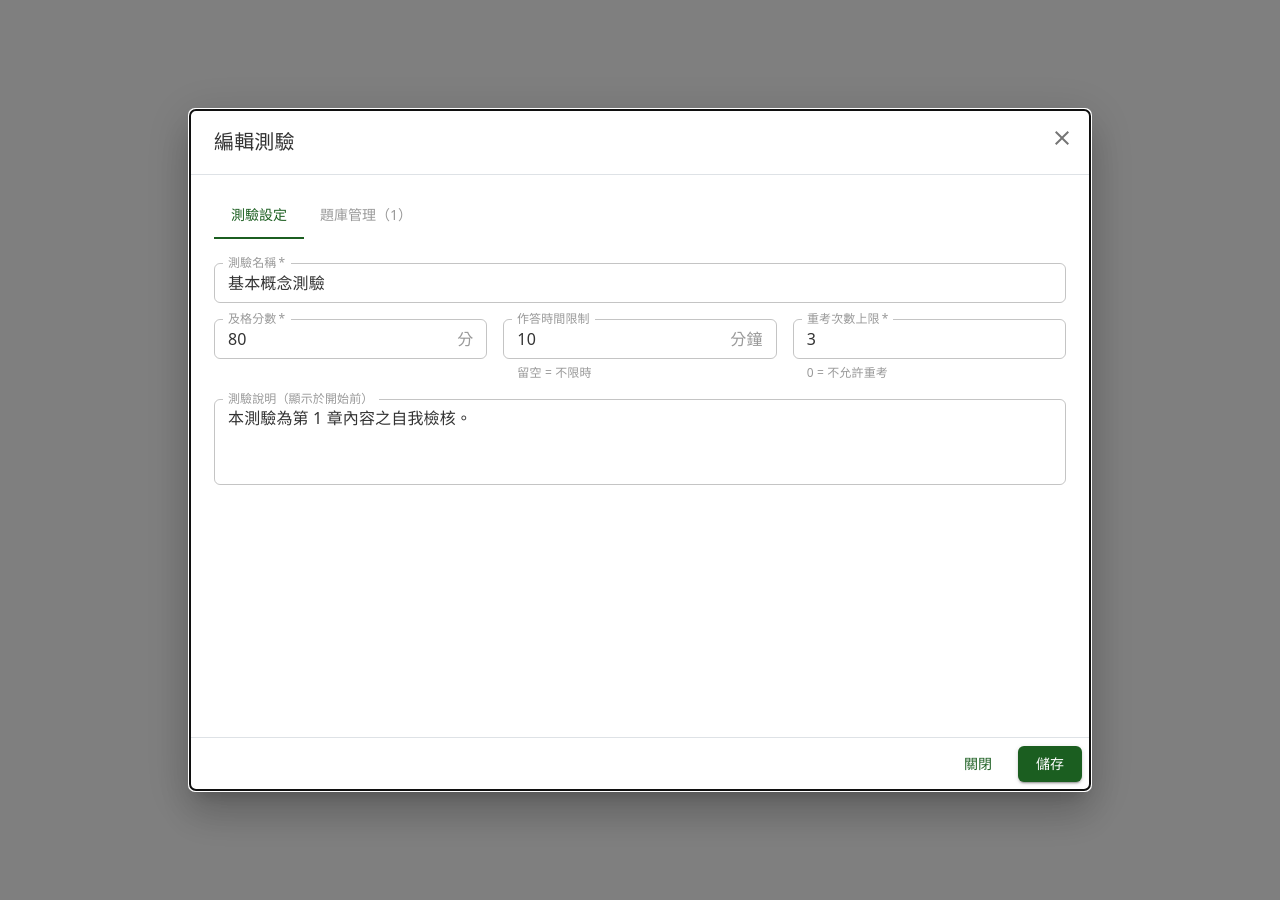
it: 測驗編輯視窗 › 點編輯展開該題之編輯器
Click the tab "題庫管理（1）". click: (366, 215)
box: [304, 191, 428, 239]
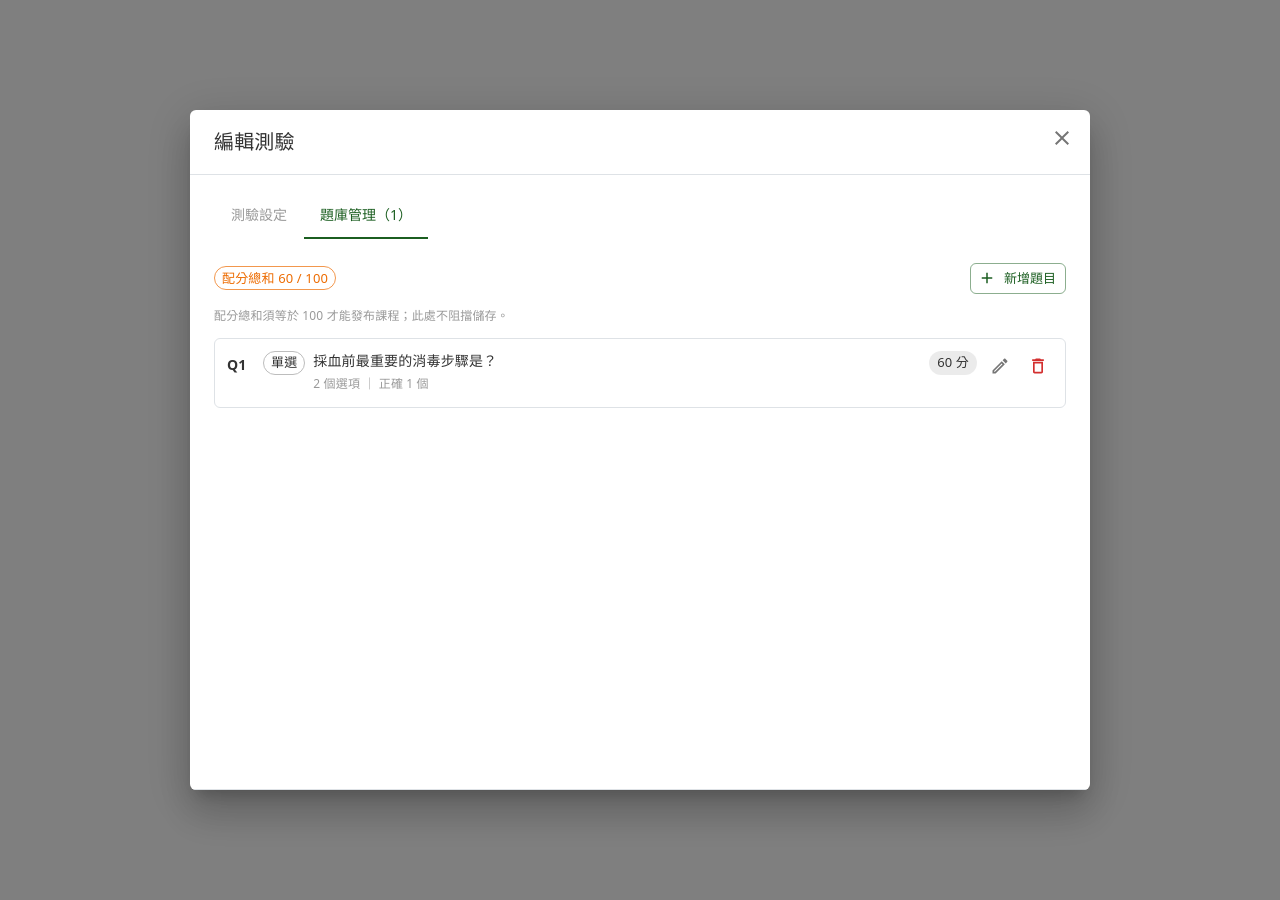
Click the button named "編輯第 1 題". click: (1000, 366)
box: [985, 351, 1015, 381]
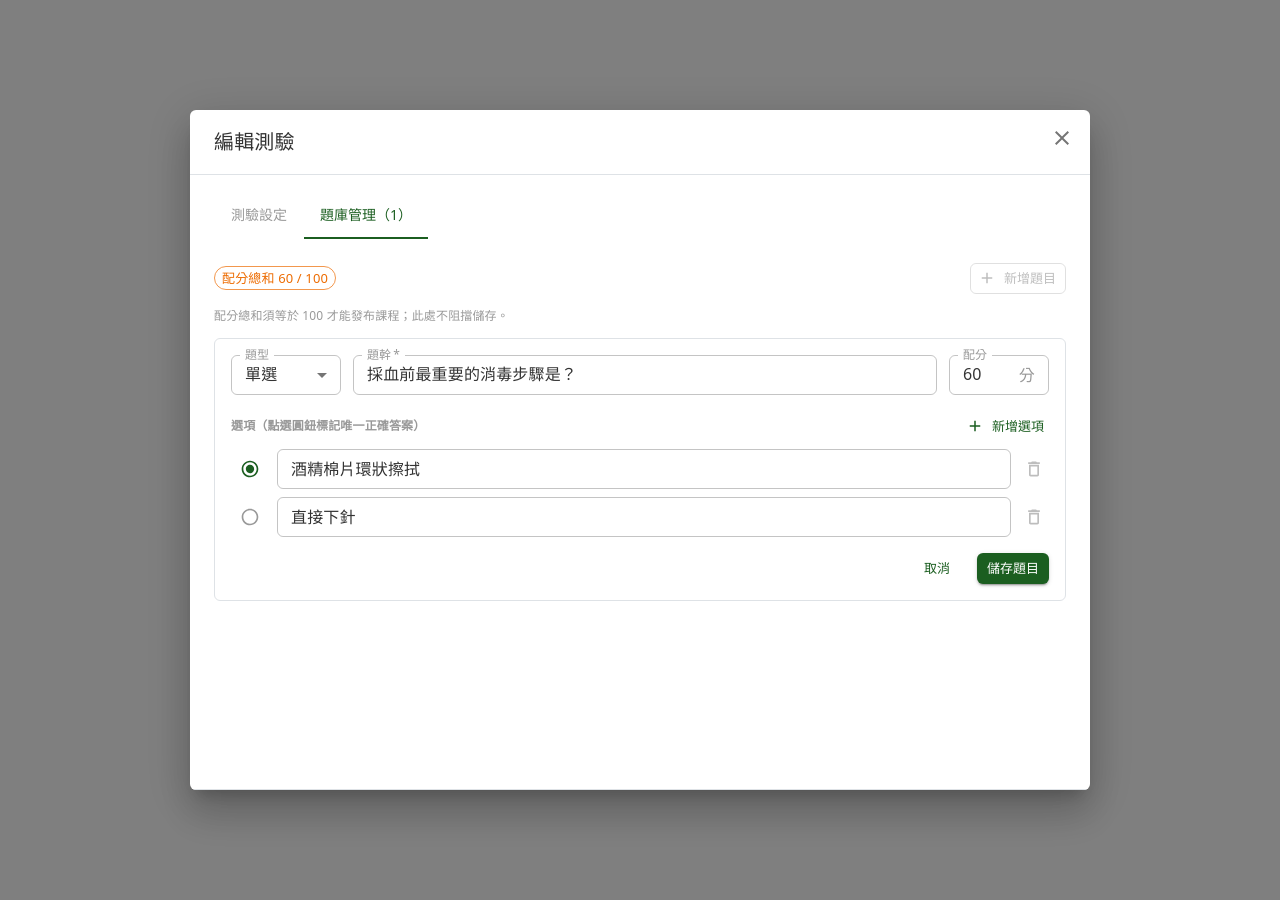
Check: the field showing "酒精棉片環狀擦拭" is shown, box [277, 449, 1011, 489]
